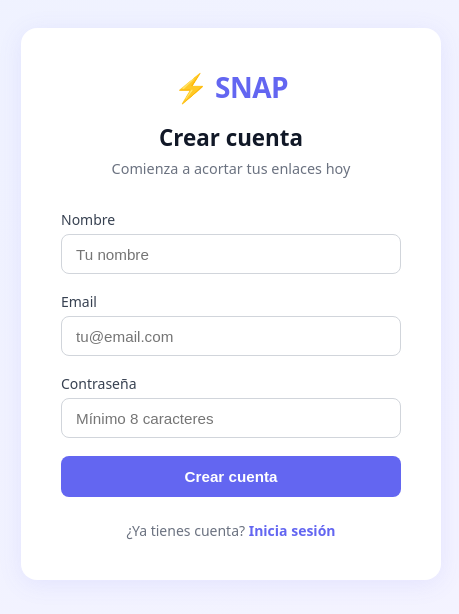
RegisterPage › muestra error si la contraseña tiene menos de 8 caracteres
Type "Juan" into the field labelled "Nombre". click: (231, 254)
box: [61,234,401,274]
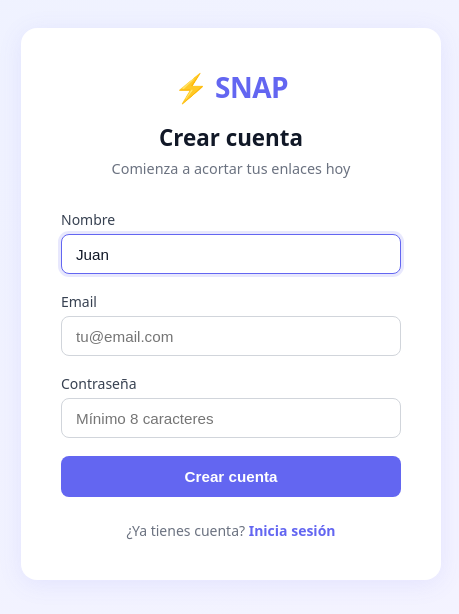
Type "juan@example.com" into the field labelled "Email". click: (231, 336)
box: [61,316,401,356]
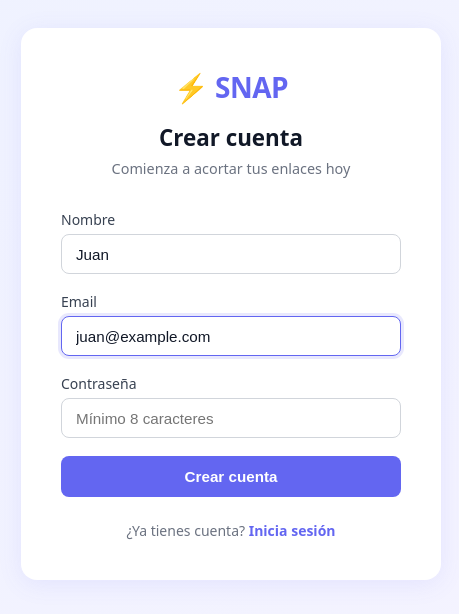
Type "123" into the password field labelled "Contraseña". click: (231, 418)
box: [61,398,401,438]
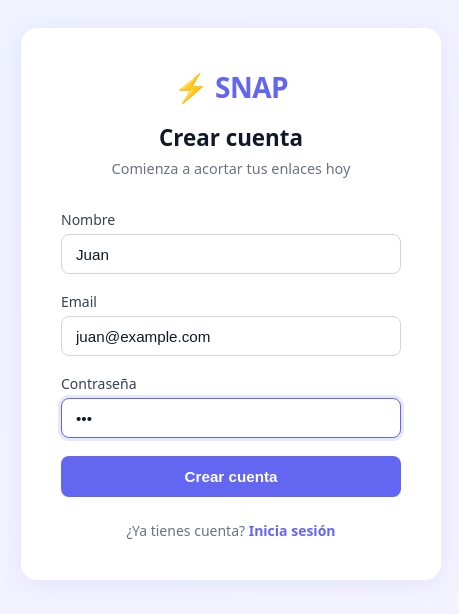
Click the button "Crear cuenta". click: (231, 476)
box: [61,456,401,497]
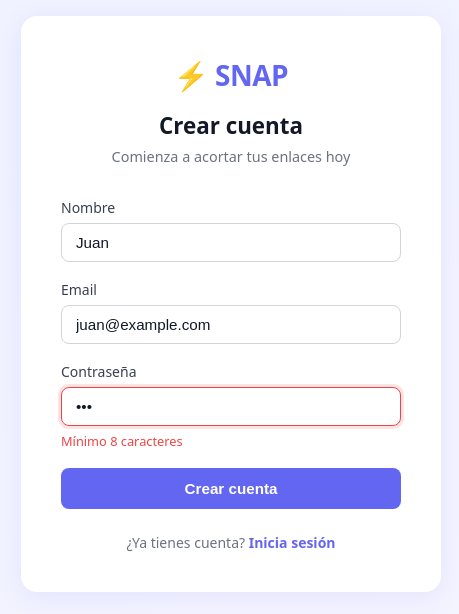
expect the text "Mínimo 8 caracteres" is shown: met, box [61,432,183,450]
